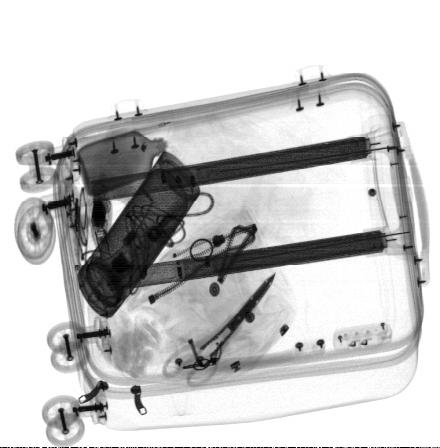Scissors: (163, 273, 278, 389)
